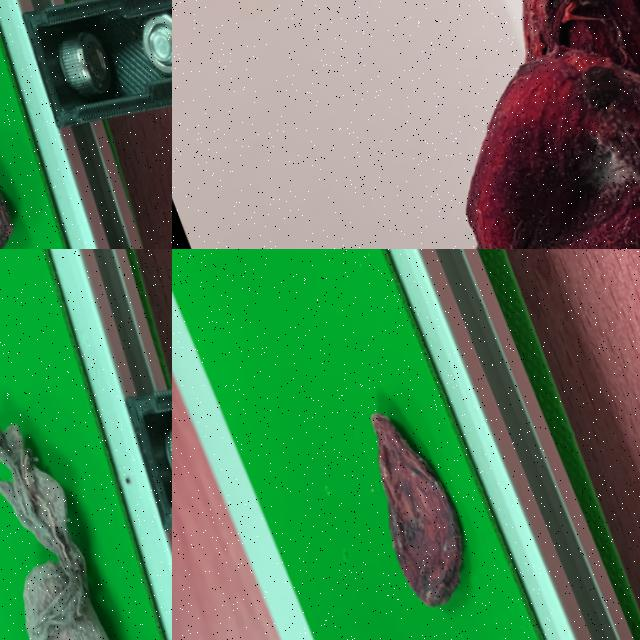Agglomerated_cocoabeans: (325, 0, 639, 248), (0, 345, 171, 639)
Fine_cocoabeans: (0, 29, 95, 248)
Flat_cocoabeans: (297, 322, 537, 639)
